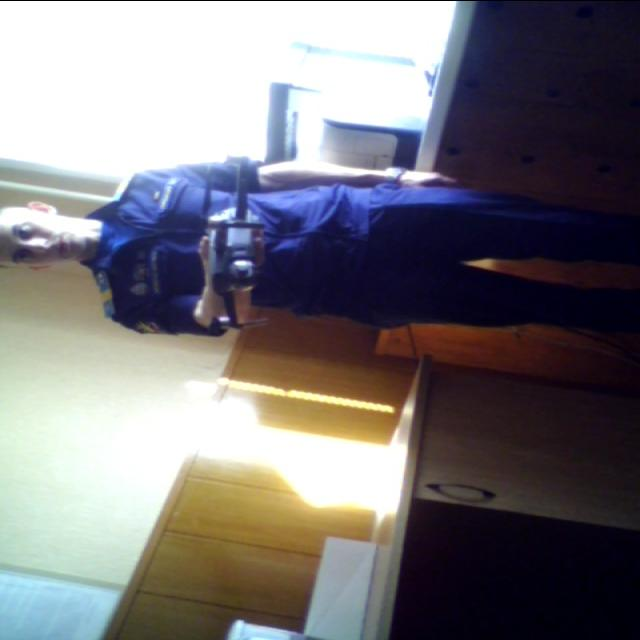drone: (177, 134, 281, 343)
